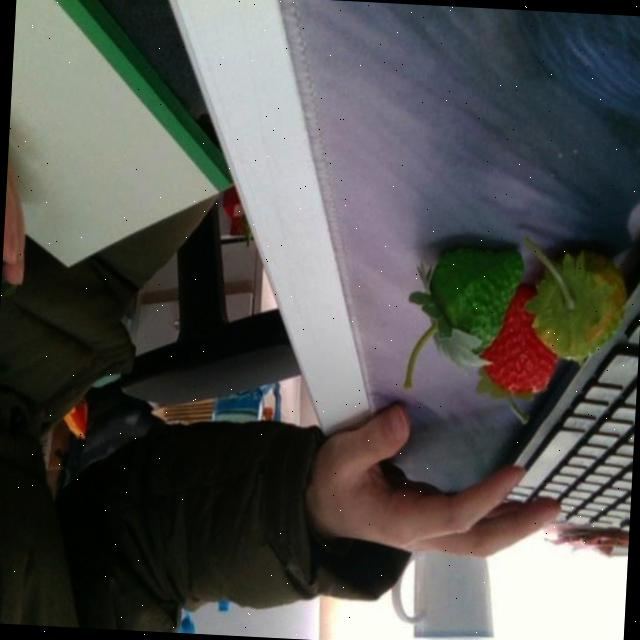strawberry: (426, 242, 524, 360), (535, 245, 628, 362), (479, 283, 557, 407)
